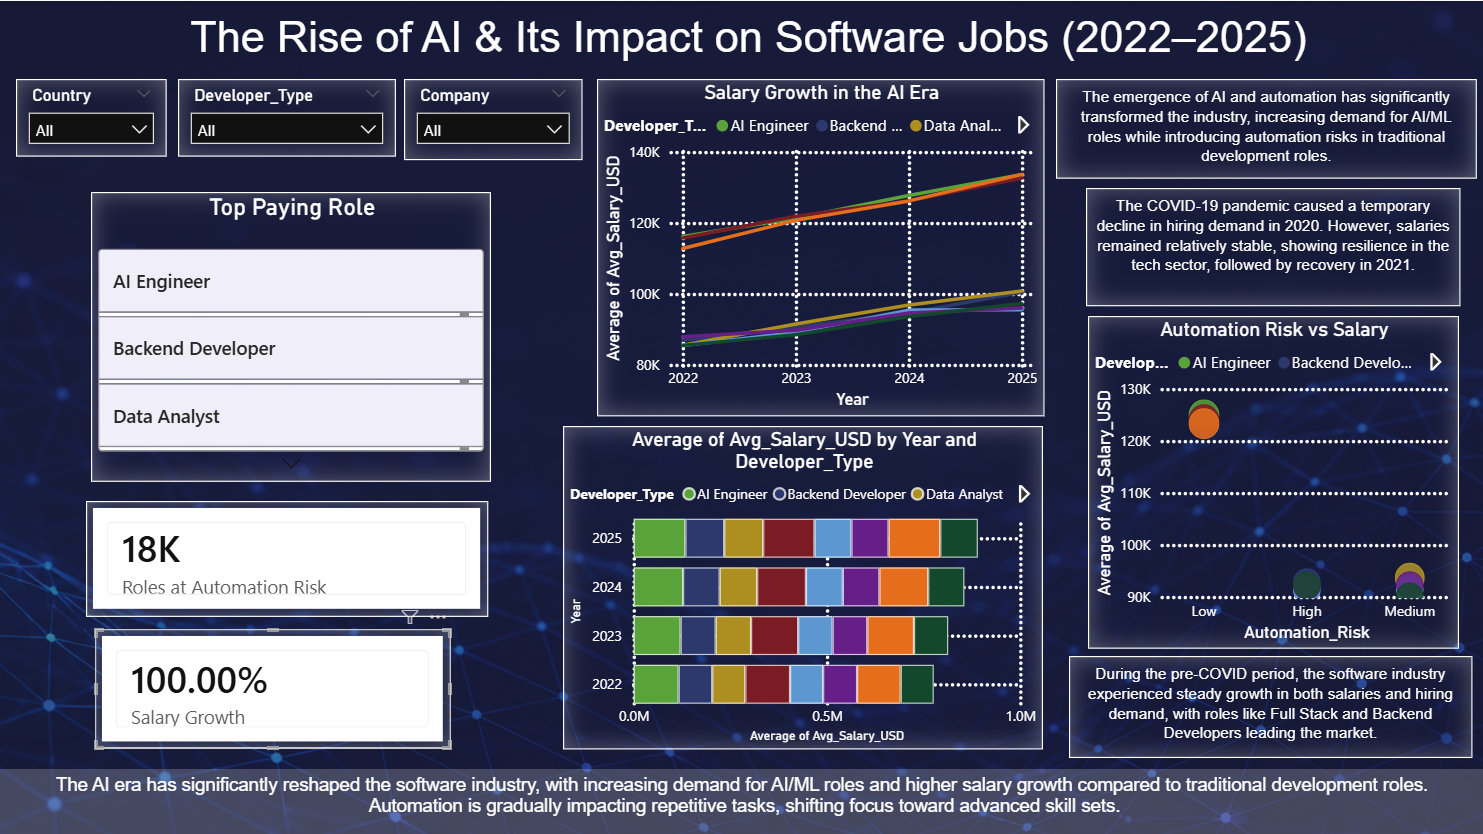

Layout of this report page (visuals, bound fields, positions):
{"tool":"powerbi","page":{"name":"2022- 2025","canvas":[1280,720],"ordinal":2},"visuals":[{"type":"image","box":[0,0,1279.5,719.1],"z":0},{"type":"textbox","box":[144.1,5.5,1003.1,64.5],"z":1000},{"type":"textbox","box":[0,662,1280,57],"z":2000},{"type":"textbox","box":[922.3,565.1,347.8,88.1],"z":3000},{"type":"textbox","box":[936.4,161,323.1,102.2],"z":4000},{"type":"textbox","box":[910.6,67,363.1,85.8],"z":5000},{"type":"lineChart","title":"Salary Growth in the AI Era","fields":{"Category":["ai_ml_era_2022_2025.Year"],"Y":["Avg(ai_ml_era_2022_2025.Avg_Salary_USD)"],"Series":["ai_ml_era_2022_2025.Developer_Type"]},"box":[514.6,67.2,385.6,290.9],"z":6000},{"type":"barChart","fields":{"Y":["Avg(ai_ml_era_2022_2025.Avg_Salary_USD)"],"Category":["ai_ml_era_2022_2025.Year"],"Series":["ai_ml_era_2022_2025.Developer_Type"]},"box":[485.8,366.4,414.4,278.6],"z":7000},{"type":"scatterChart","title":"Automation Risk vs Salary","fields":{"X":["ai_ml_era_2022_2025.Automation_Risk"],"Y":["Avg(ai_ml_era_2022_2025.Avg_Salary_USD)"],"Series":["ai_ml_era_2022_2025.Developer_Type"],"Size":["Avg(ai_ml_era_2022_2025.Requirement_Rate)"]},"box":[938.8,271.4,319.6,286.7],"z":8000},{"type":"cardVisual","title":"Top Paying Role","fields":{"Rows":["ai_ml_era_2022_2025.Developer_Type"],"Data":["Avg(ai_ml_era_2022_2025.Avg_Salary_USD)"]},"box":[78.7,164.5,345.4,250.3],"z":9000},{"type":"cardVisual","fields":{"Data":["ai_ml_era_2022_2025.Salary Growth %","select"]},"box":[82.2,541.6,306.7,103.4],"z":10000},{"type":"cardVisual","fields":{"Data":["CountNonNull(ai_ml_era_2022_2025.Automation_Risk)"]},"box":[74,431.2,346.6,99.9],"z":11000},{"type":"slicer","fields":{"Values":["ai_ml_era_2022_2025.Country"]},"box":[13.7,67.2,130.4,67.2],"z":12000},{"type":"slicer","fields":{"Values":["ai_ml_era_2022_2025.Developer_Type"]},"box":[153.7,67.2,188,67.2],"z":13000},{"type":"slicer","fields":{"Values":["ai_ml_era_2022_2025.Company"]},"box":[348.5,67.2,153.7,70],"z":14000}]}

Visuals, with their boxes in screenshot pixels (x1, y1, x2, y2), scaled from the page's 1280x720 canvas onto the 1483x834 screenshot:
image: [left=0, top=0, right=1482, bottom=833]
textbox: [left=167, top=6, right=1329, bottom=81]
textbox: [left=0, top=767, right=1482, bottom=833]
textbox: [left=1069, top=655, right=1472, bottom=757]
textbox: [left=1085, top=186, right=1459, bottom=305]
textbox: [left=1055, top=78, right=1476, bottom=177]
"Salary Growth in the AI Era" lineChart: [left=596, top=78, right=1043, bottom=415]
barChart - Avg(ai_ml_era_2022_2025.Avg_Salary_USD) x ai_ml_era_2022_2025.Year: [left=563, top=424, right=1043, bottom=747]
"Automation Risk vs Salary" scatterChart: [left=1088, top=314, right=1458, bottom=646]
"Top Paying Role" cardVisual: [left=91, top=191, right=491, bottom=480]
cardVisual - ai_ml_era_2022_2025.Salary Growth % x select: [left=95, top=627, right=451, bottom=747]
cardVisual - CountNonNull(ai_ml_era_2022_2025.Automation_Risk): [left=86, top=499, right=487, bottom=615]
slicer - ai_ml_era_2022_2025.Country: [left=16, top=78, right=167, bottom=156]
slicer - ai_ml_era_2022_2025.Developer_Type: [left=178, top=78, right=396, bottom=156]
slicer - ai_ml_era_2022_2025.Company: [left=404, top=78, right=582, bottom=159]
